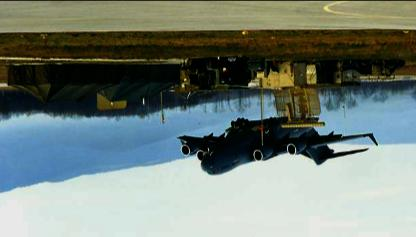C2: (176, 116, 378, 176)
